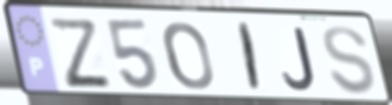5: (103, 17, 162, 93)
I: (237, 20, 264, 95)
J: (280, 26, 318, 93)
O: (160, 20, 217, 93)
S: (321, 23, 378, 98)
Z: (45, 15, 115, 90)
